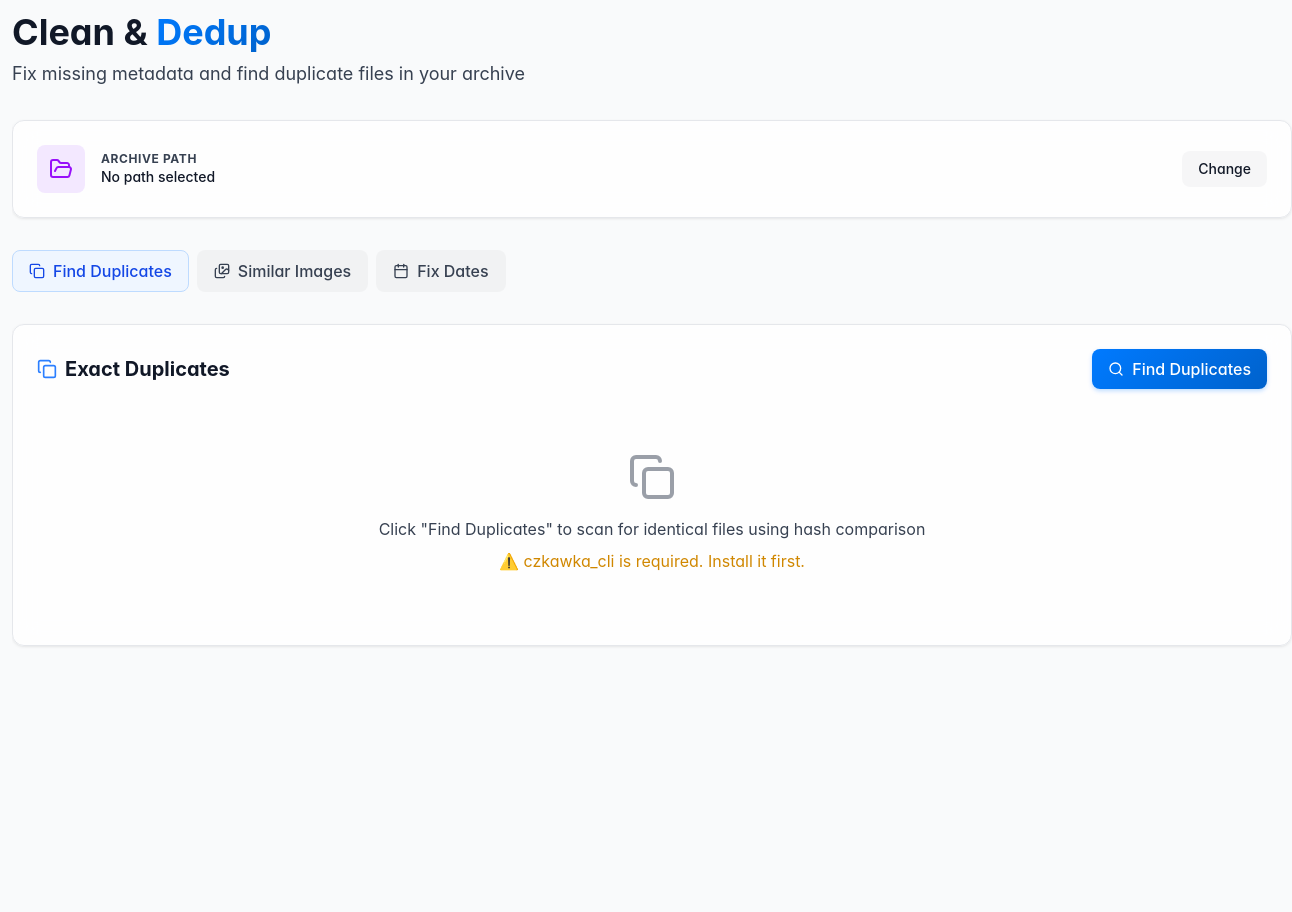
Test: Clean Page › switches tabs correctly
Check: the heading "Exact Duplicates" is shown, box [37, 355, 230, 383]
Switch to Similar - Tab button
Click the button "Similar Images". click: (282, 271)
box: [197, 250, 368, 292]
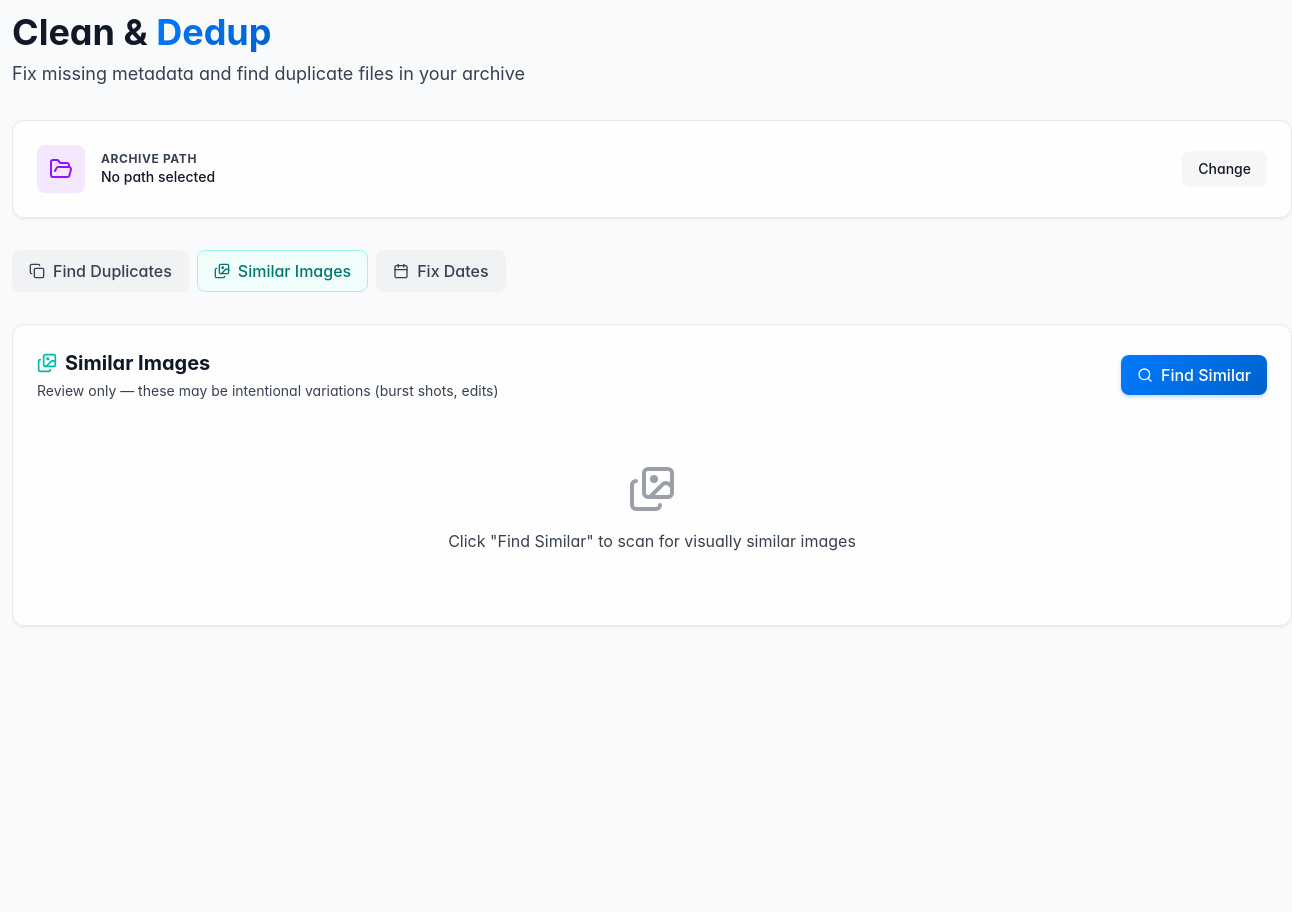
Check: the heading "Similar Images" is shown, box [37, 351, 210, 375]
Switch to Fix Dates - Tab button
Click the button "Fix Dates". click: (441, 271)
box: [376, 250, 506, 292]
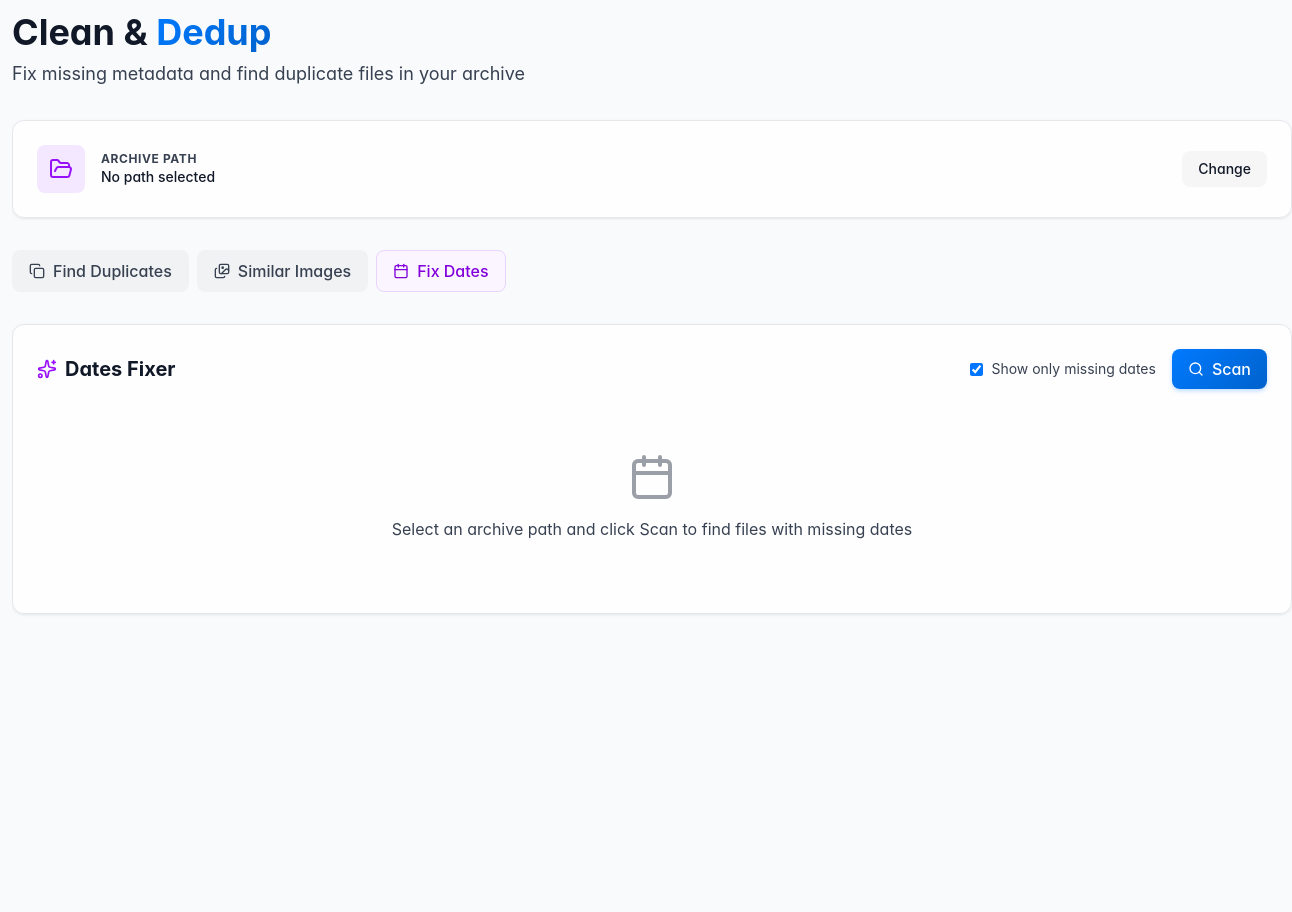
Check: the heading "Dates Fixer" is shown, box [37, 355, 176, 383]
